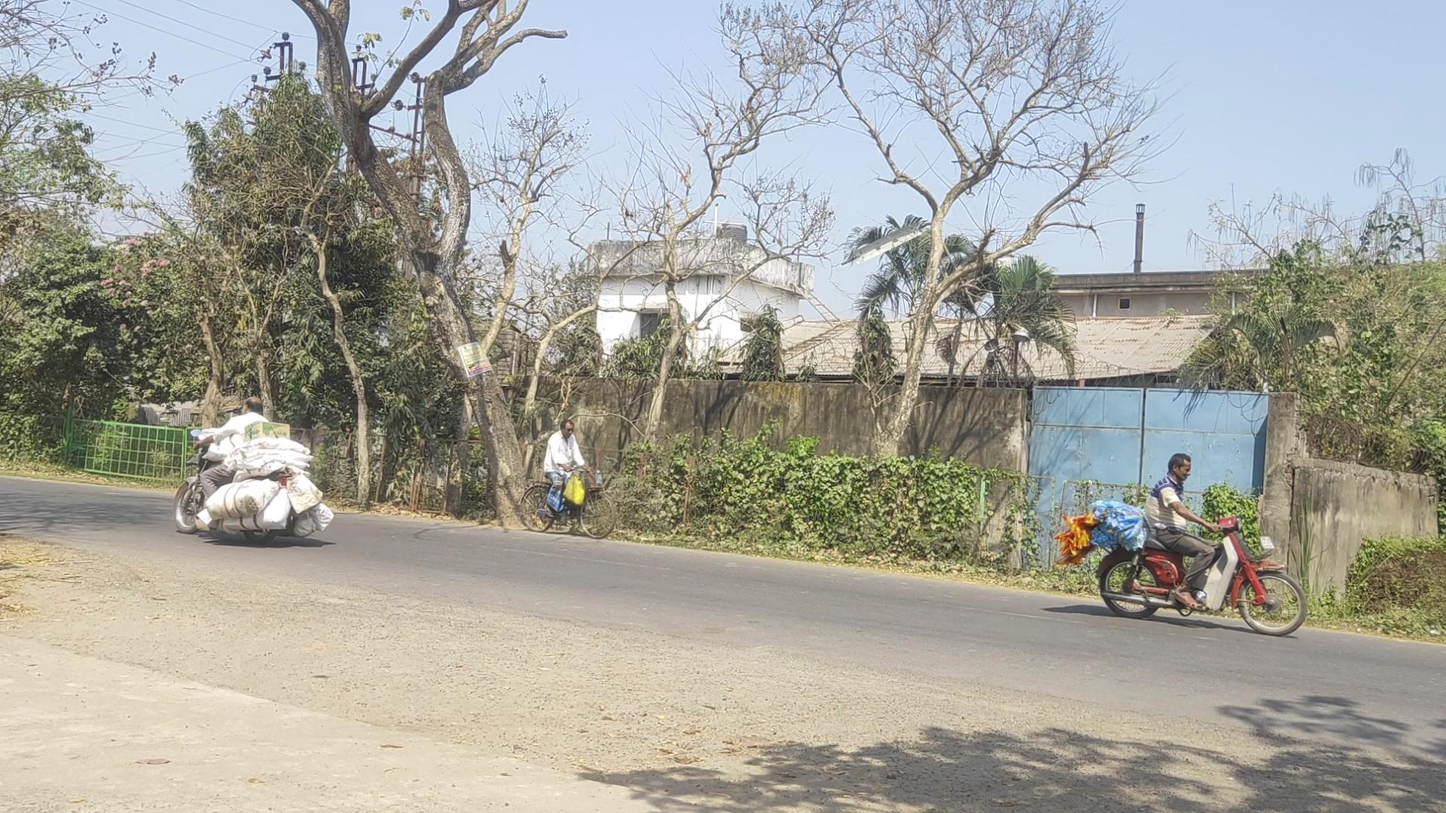bike: (1062, 453, 1307, 637), (173, 396, 333, 544), (519, 419, 616, 538)
